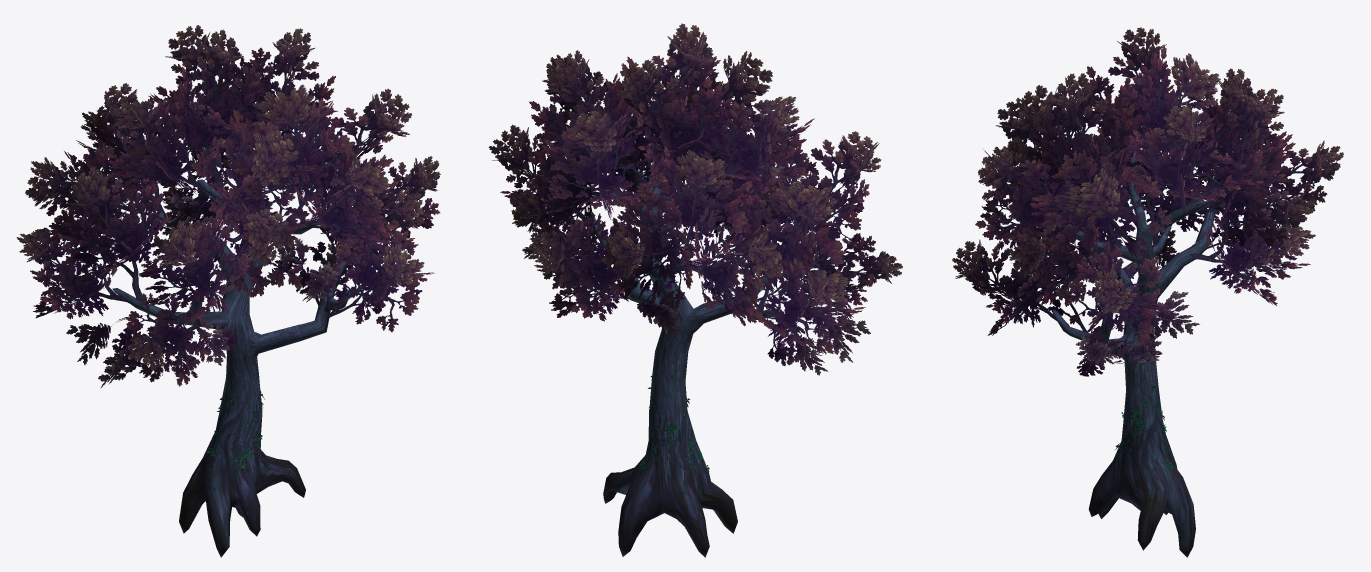
The picture shows the model from 3 angles, left to right: view 1: azimuth 30°, elevation 25°; view 2: azimuth 150°, elevation 25°; view 3: azimuth 270°, elevation 25°; orthographic projection. The views are drawn at different scales.
Size of the model in its own units: 37.42 by 44.06 by 33.36.
2 materials, 2 textured.
